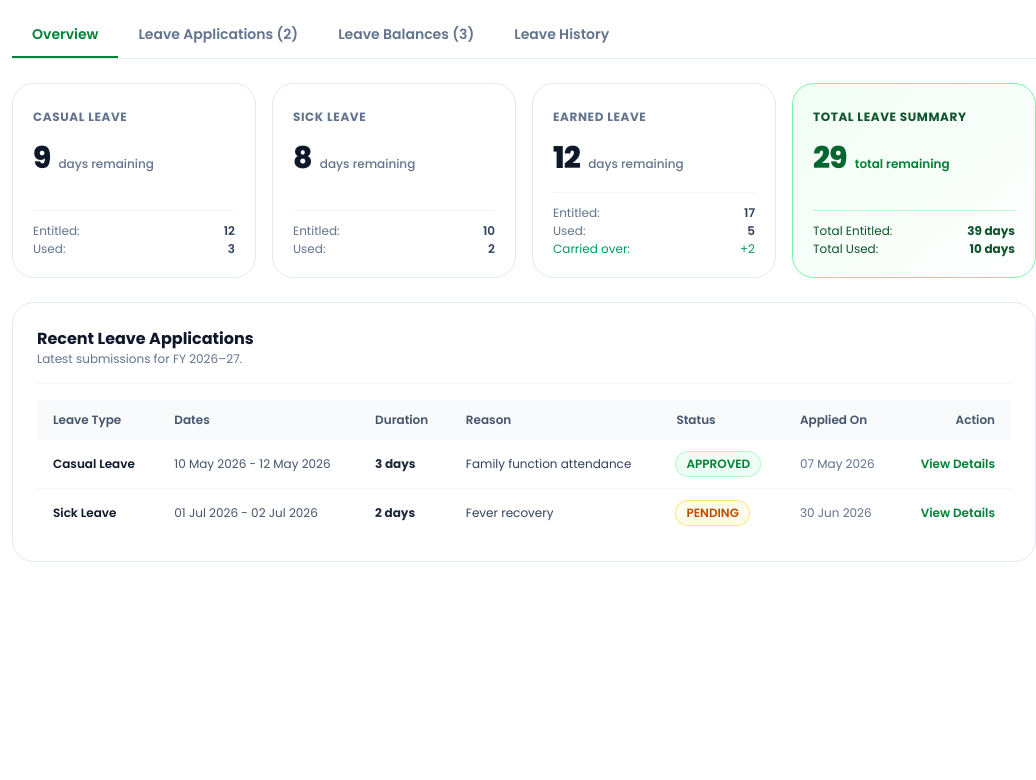
Test: EmployeeLeaveProfile Tabs & Features › navigates to Leave Applications tab and allows filtering by status
The width and height of the screenshot is (1036, 780).
# Click on Leave Applications tab
Click the button "Leave Applications (2)" at {"x": 218, "y": 35}, box [118,12,318,58]
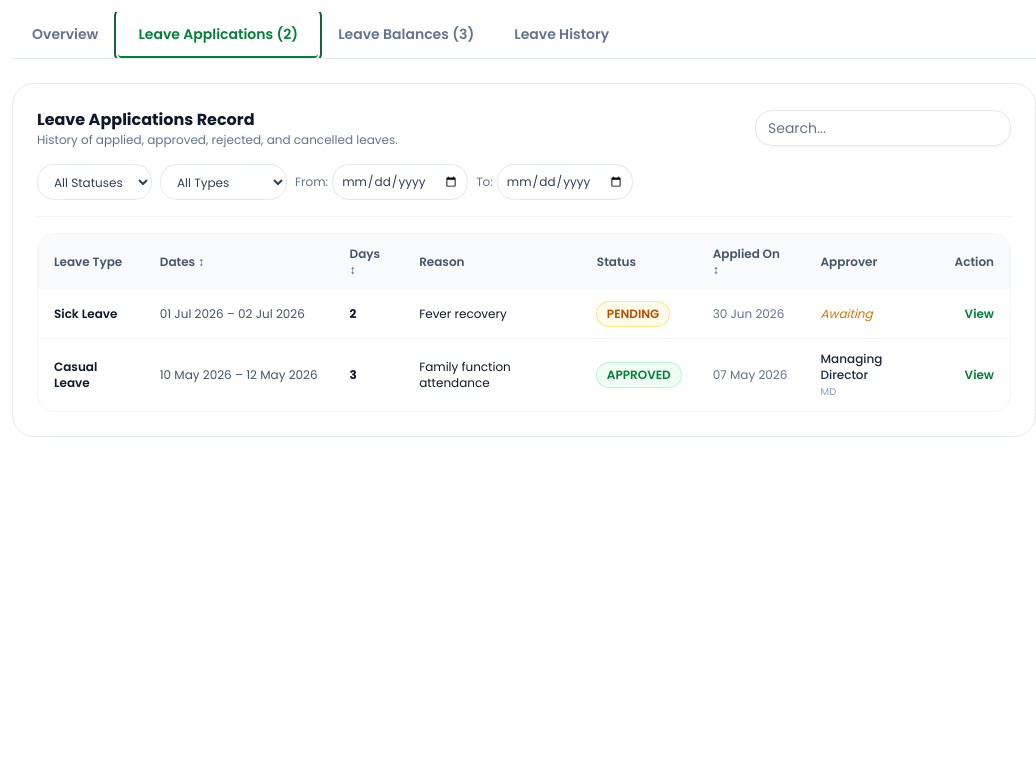
Expected: the text "Family function attendance" is shown, [419,358,511,391]
Expected: the text "Fever recovery" is shown, [419,305,507,322]
# Filter by PENDING status
Select "Pending" in the 1st dropdown at {"x": 94, "y": 182}, box [37,164,152,200]
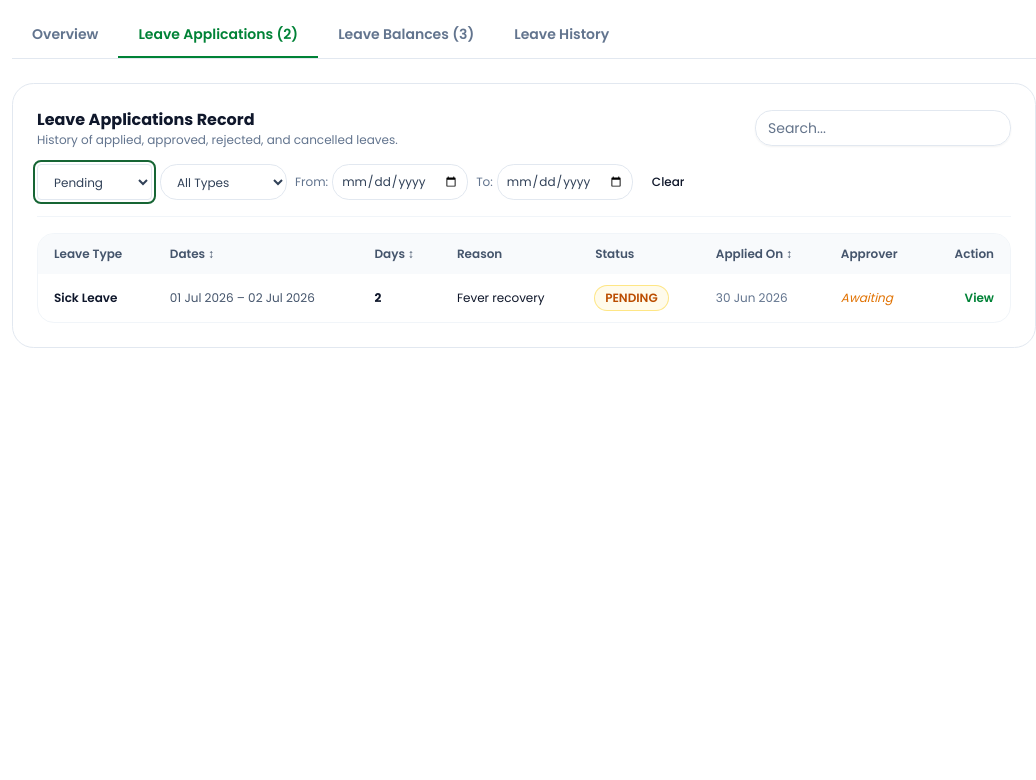
Expected: the text "Fever recovery" is shown, [457,289,544,306]
Now the text "Family function attendance" is gone
